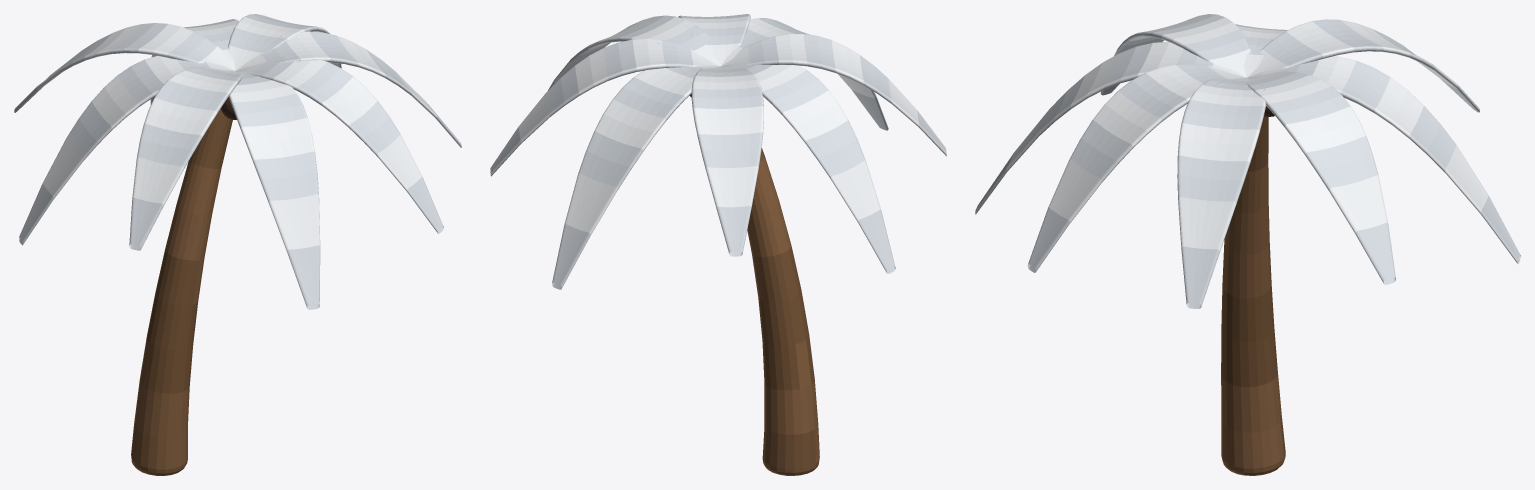
The model's file is PalmTree.obj.
3 renders of one model, left to right at view 1: azimuth 30°, elevation 25°; view 2: azimuth 150°, elevation 25°; view 3: azimuth 270°, elevation 25°, orthographic. The views are drawn at different scales.
Bounding box in the file's own units: 7 × 6.76 × 7.44.
